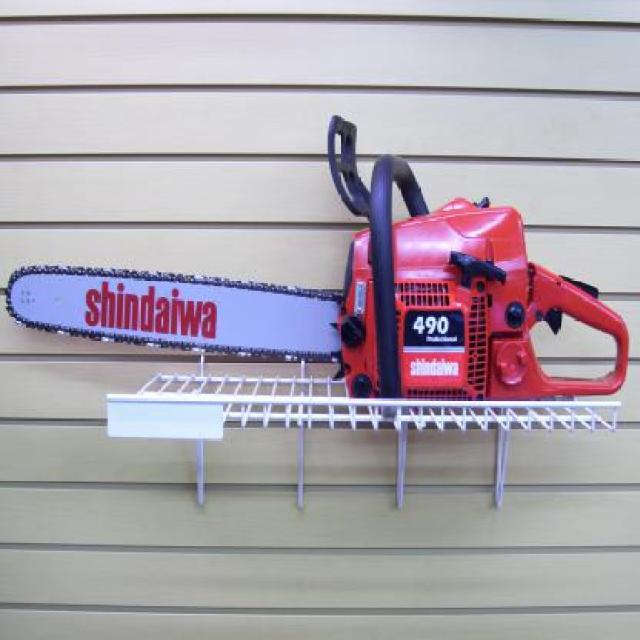Chainsaw: (6, 116, 632, 410)
